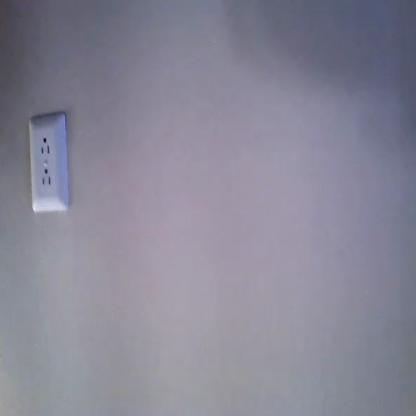OUTLET: (29, 110, 68, 215)
